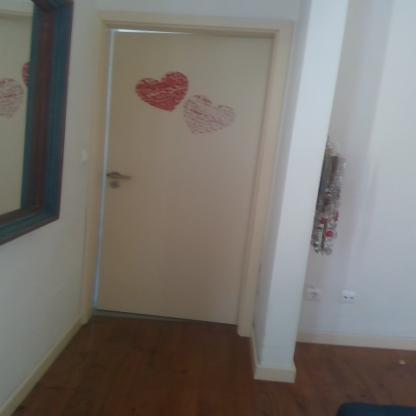closed: (78, 6, 297, 354)
